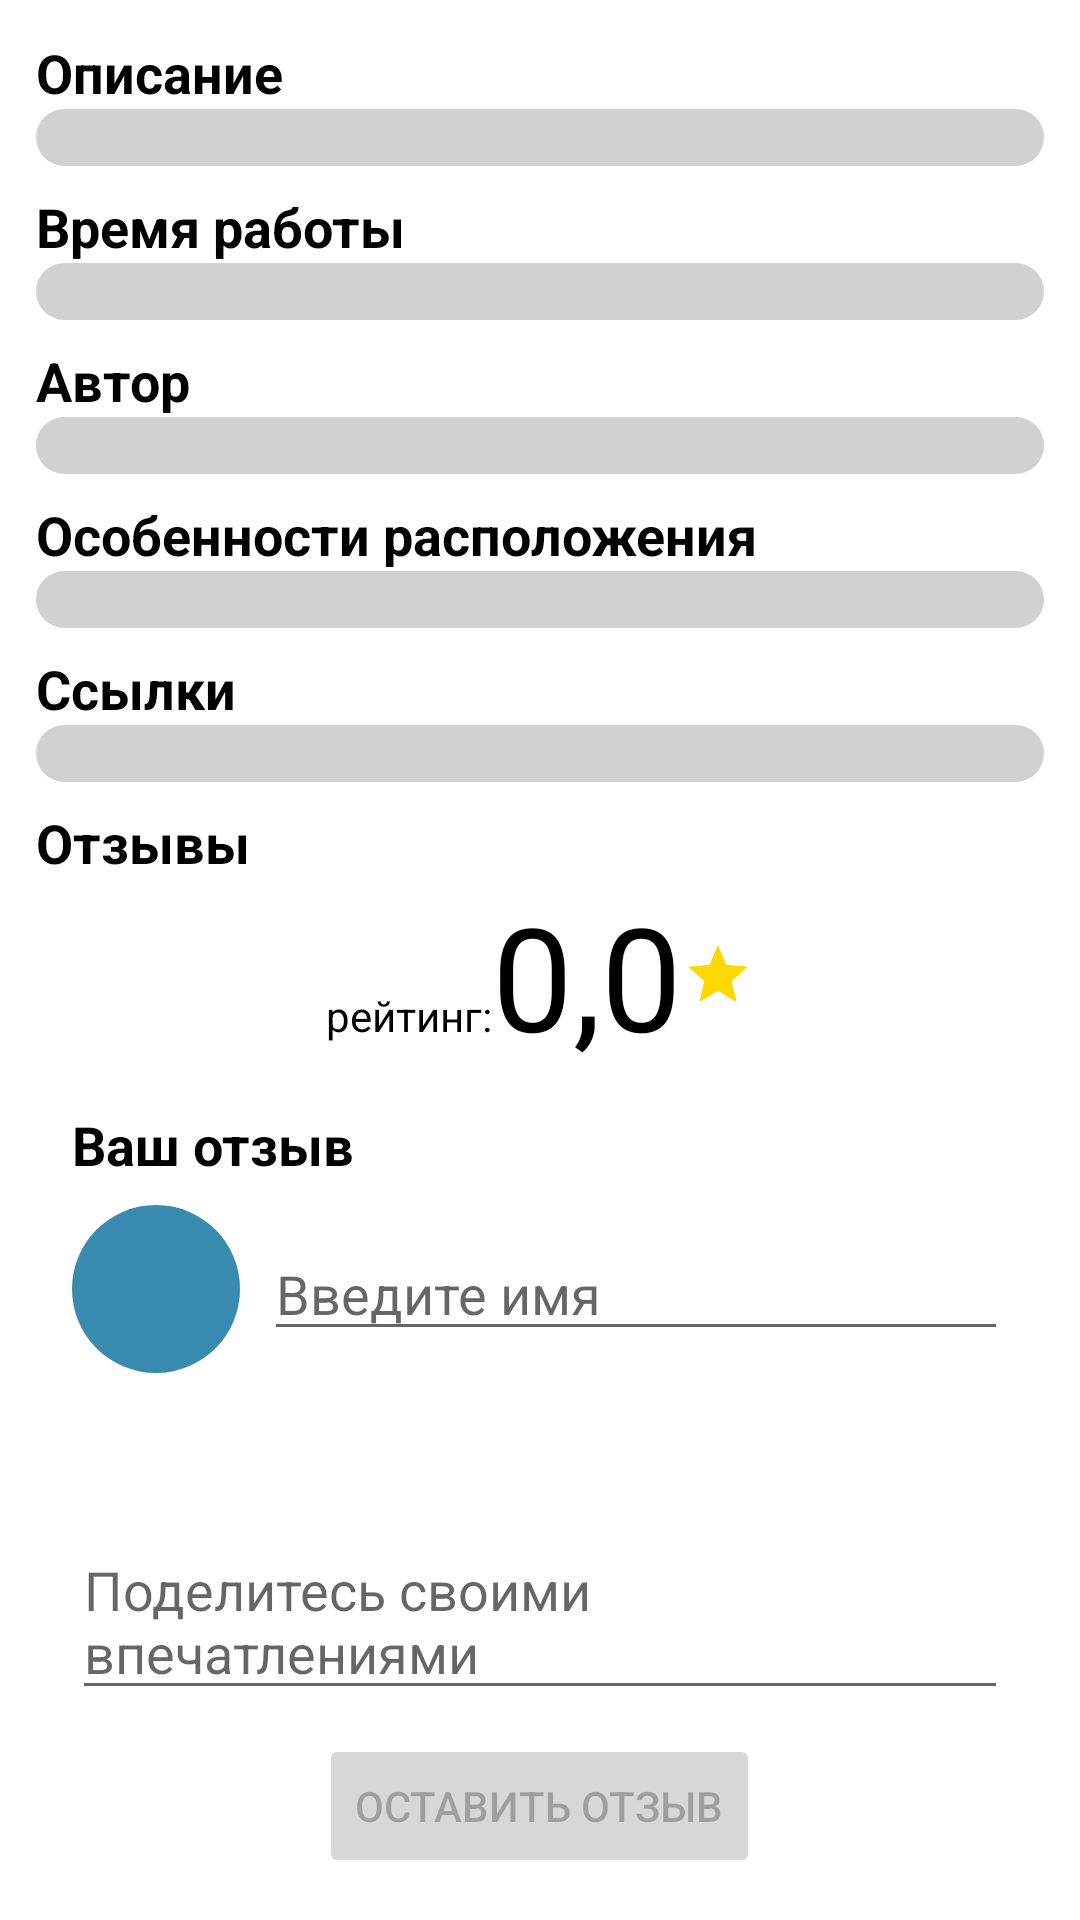

Named icons in this screenshot (1080 x 1920) and their centers, point (x, y):
star: point (718, 973)
